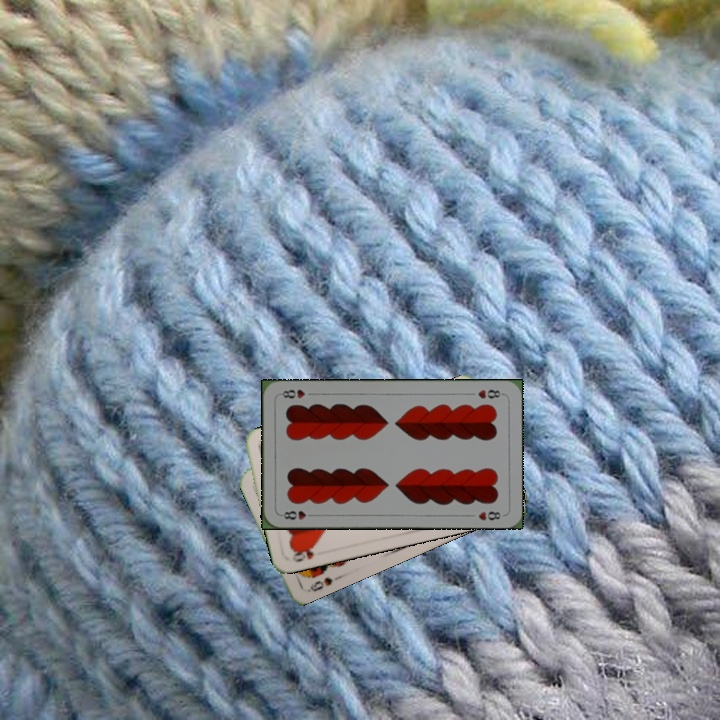H8: (277, 507, 317, 522), (474, 386, 506, 401)
HO: (288, 542, 316, 565)
S8: (303, 573, 335, 595)
